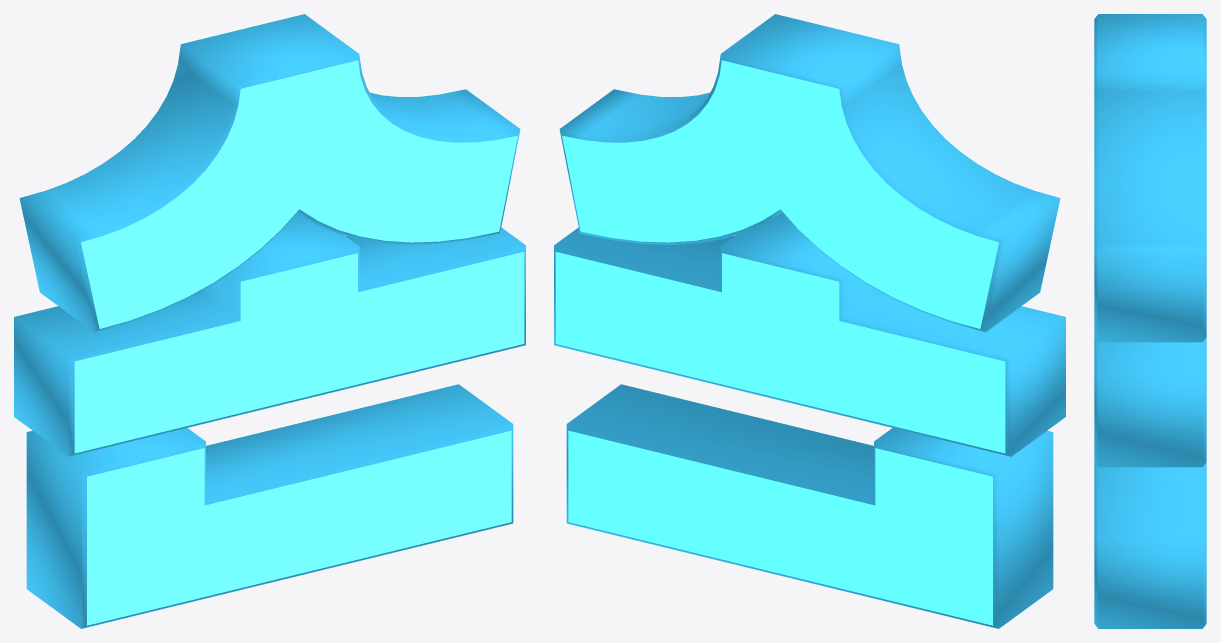
3 views of the same model, side by side, from view 1: azimuth 30°, elevation 25°; view 2: azimuth 150°, elevation 25°; view 3: azimuth 270°, elevation 25° (orthographic). The views are drawn at different scales.
Parts seen in each view (by area): view 1: glyph; view 2: glyph; view 3: glyph.
Part boxes in pixels (x1,y1,x2,y2): glyph: [14, 14, 525, 628]; glyph: [554, 14, 1065, 628]; glyph: [1094, 14, 1206, 628].
Size of the model in its own units: 0.0726 by 0.077 by 0.0162.
